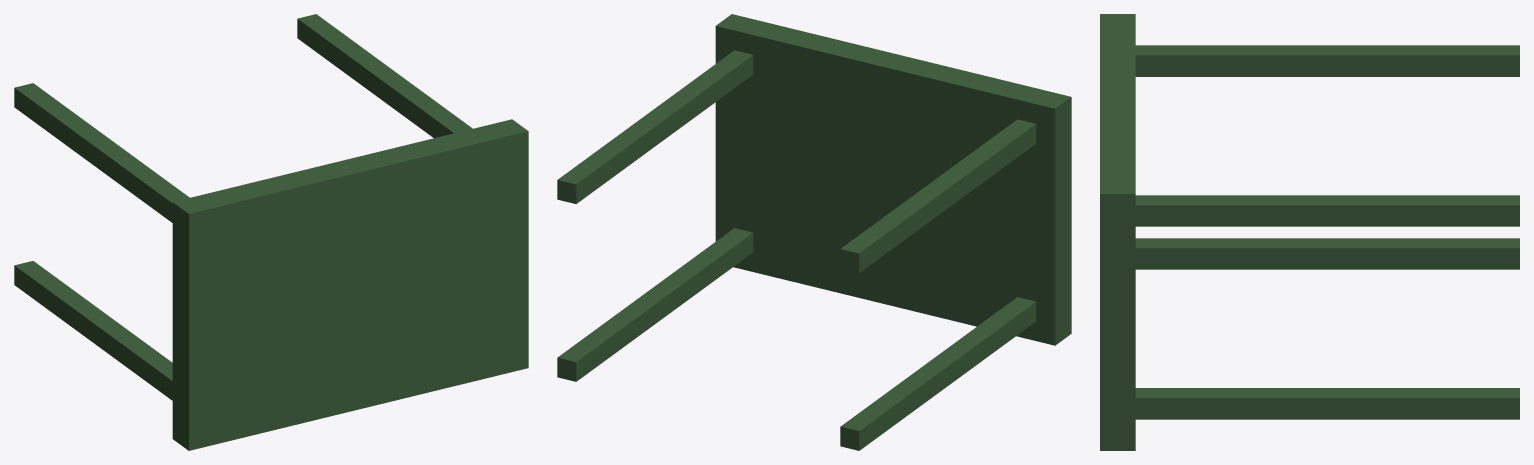
Rendered from SM_ShPicnicCanopy.obj.
The picture shows the model from 3 angles, left to right: view 1: azimuth 30°, elevation 25°; view 2: azimuth 150°, elevation 25°; view 3: azimuth 270°, elevation 25°; orthographic projection. The views are drawn at different scales.
Parts seen in each view (by area): view 1: SM_ShPicnicCanopy; view 2: SM_ShPicnicCanopy; view 3: SM_ShPicnicCanopy.
Boxes of the visible parts, <box> form: SM_ShPicnicCanopy: <box>14,14,528,450</box>; SM_ShPicnicCanopy: <box>557,14,1071,450</box>; SM_ShPicnicCanopy: <box>1100,14,1519,450</box>.
Size of the model in its own units: 180 by 120 by 178.
